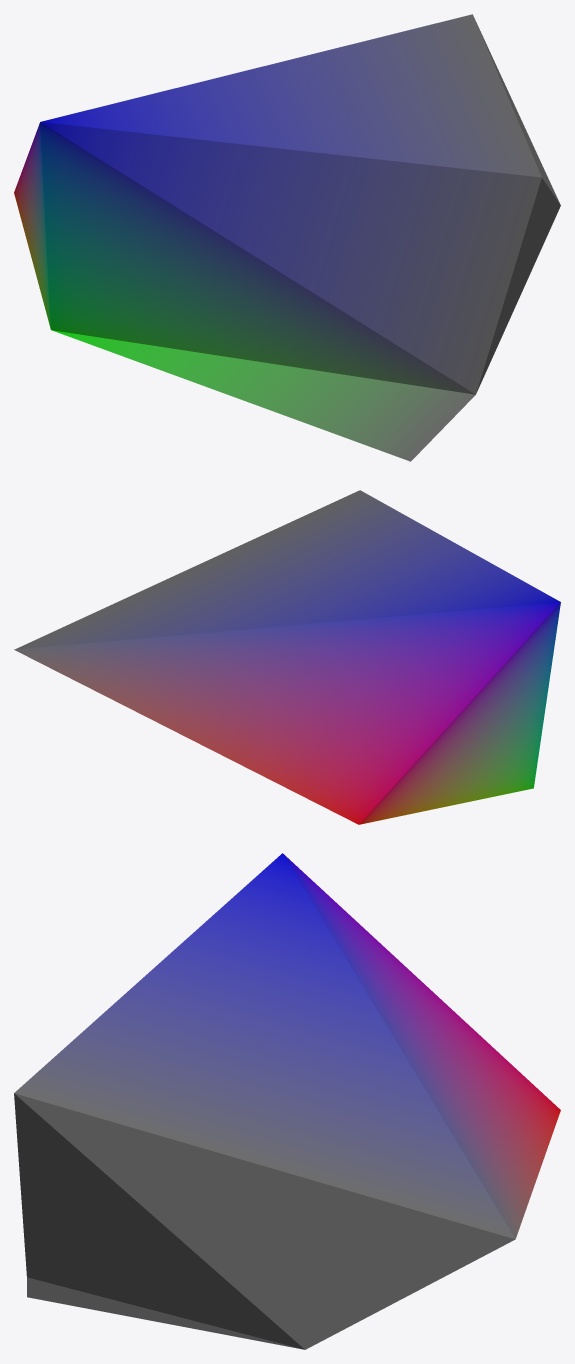
Rendered from Decimate9.obj.
The picture shows the model from 3 angles, top to bottom: view 1: azimuth 30°, elevation 25°; view 2: azimuth 150°, elevation 25°; view 3: azimuth 270°, elevation 25°; orthographic projection. The views are drawn at different scales.
Size of the model in its own units: 1.57 by 0.8516 by 1.32.
